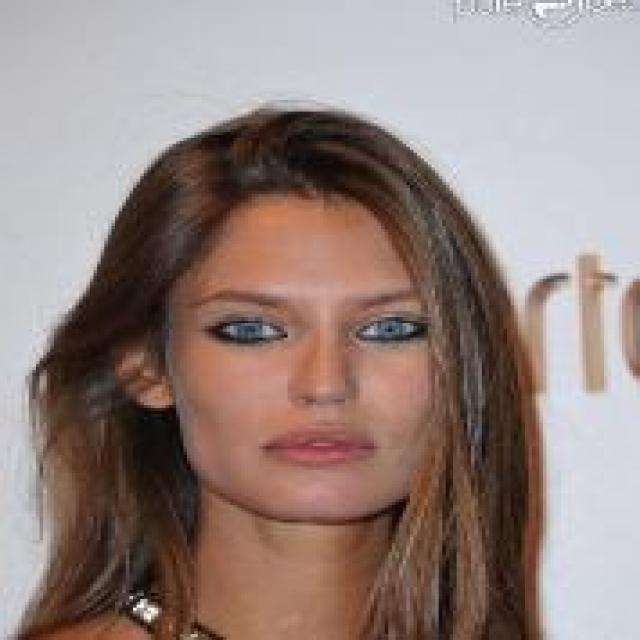nomask: (43, 141, 521, 567)
